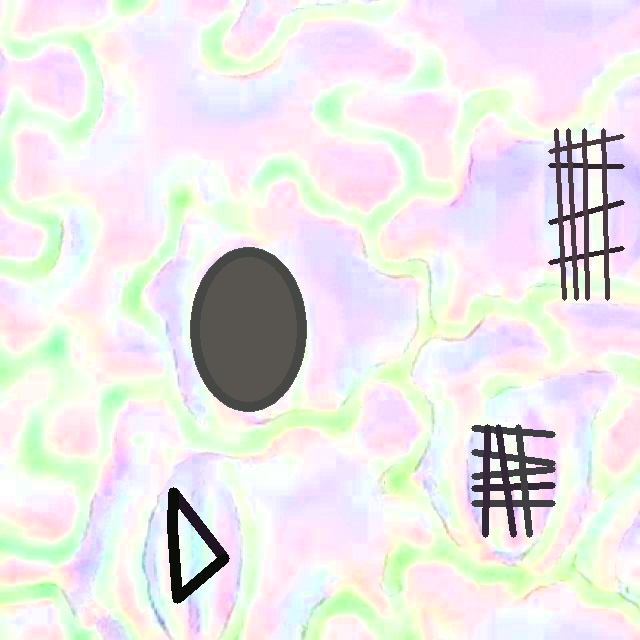open: (190, 246, 306, 411), (548, 129, 624, 299), (471, 424, 555, 537), (168, 487, 229, 603)
